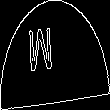M_S: (41, 28, 69, 82)
